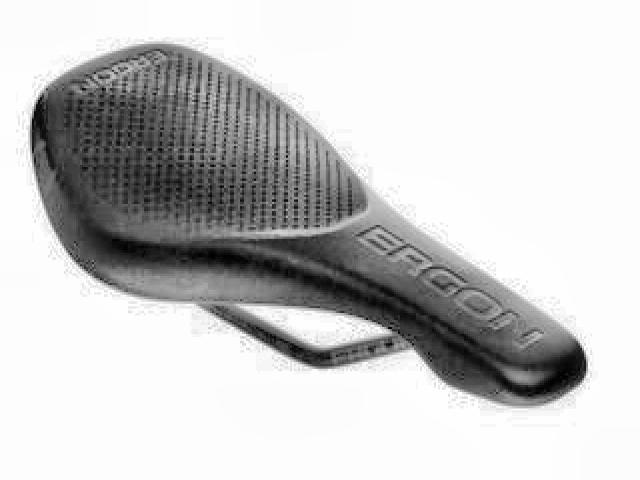saddle: (25, 40, 592, 416)
